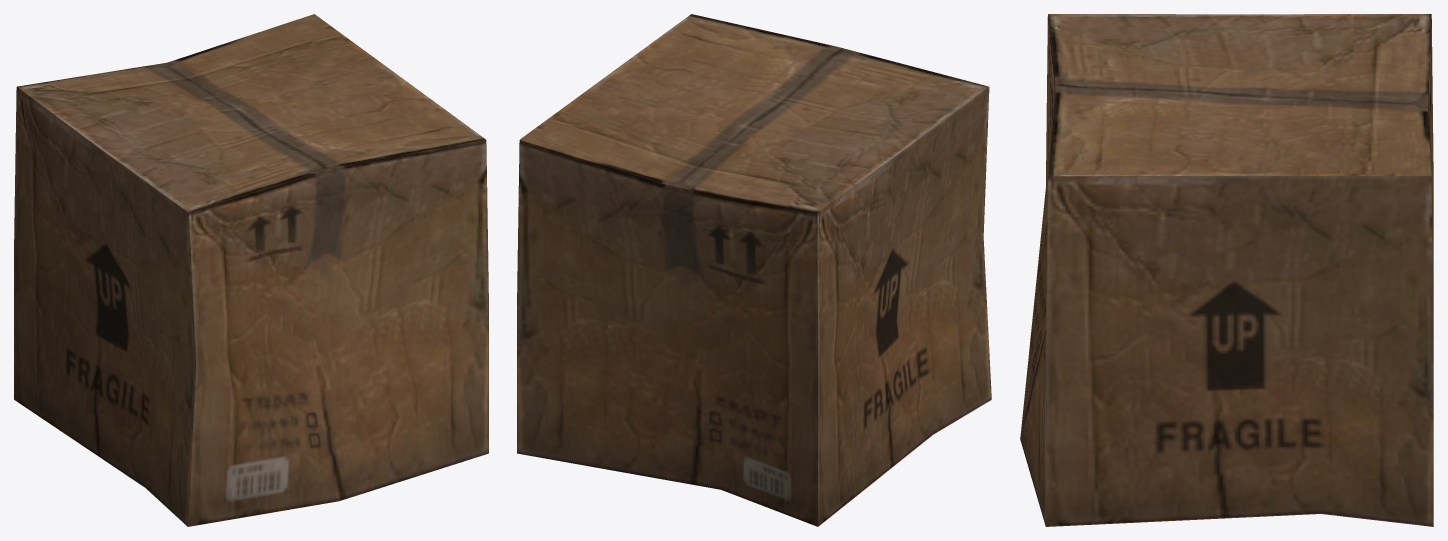
The model's file is CardboardBox.FBX.
3 renders of one model, left to right at view 1: azimuth 30°, elevation 25°; view 2: azimuth 150°, elevation 25°; view 3: azimuth 270°, elevation 25°, orthographic. The views are drawn at different scales.
Parts seen in each view (by area): view 1: CardboardBox70; view 2: CardboardBox70; view 3: CardboardBox70.
Boxes of the visible parts, left/top/right/bottom form: CardboardBox70: left=14, top=14, right=488, bottom=526; CardboardBox70: left=517, top=14, right=991, bottom=526; CardboardBox70: left=1020, top=14, right=1433, bottom=526.
Bounding box in the file's own units: 100 × 101 × 107.
